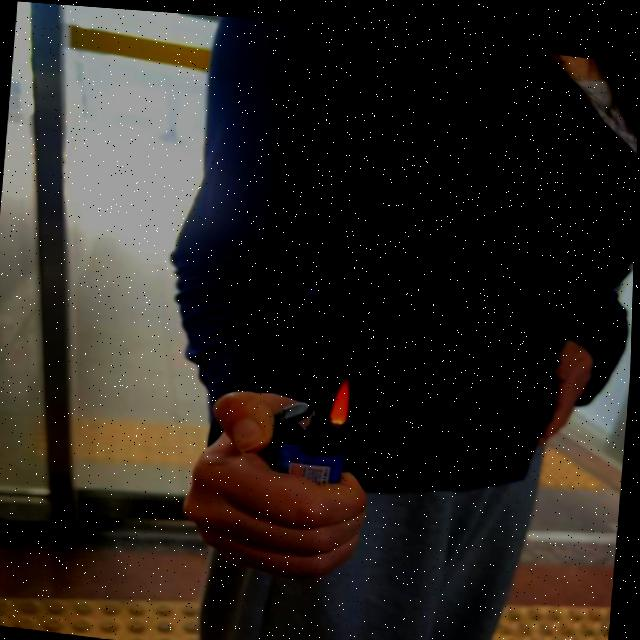Fire: (326, 366, 355, 415)
